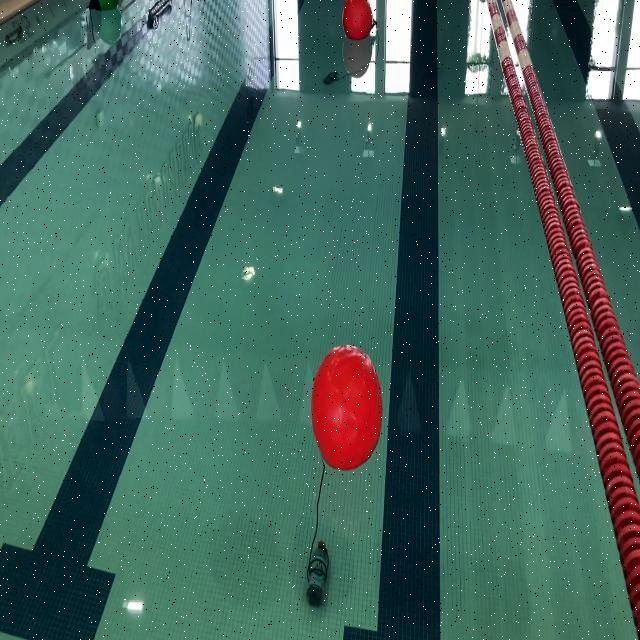buoy: (312, 344, 384, 472), (342, 0, 372, 42), (88, 0, 117, 12)
